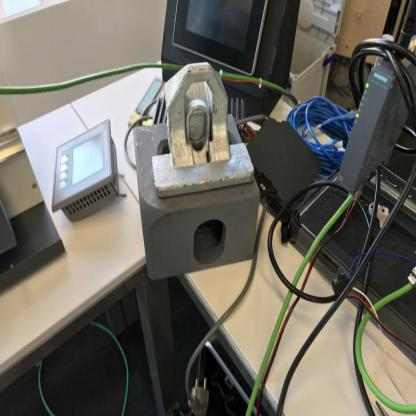CornerCasting: (138, 135, 259, 284)
Twistlock: (148, 58, 260, 202)
